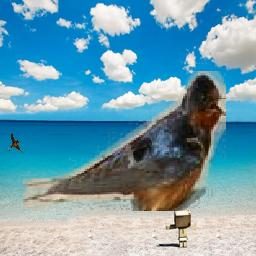Swallow: (24, 71, 227, 211), (7, 135, 23, 154)
